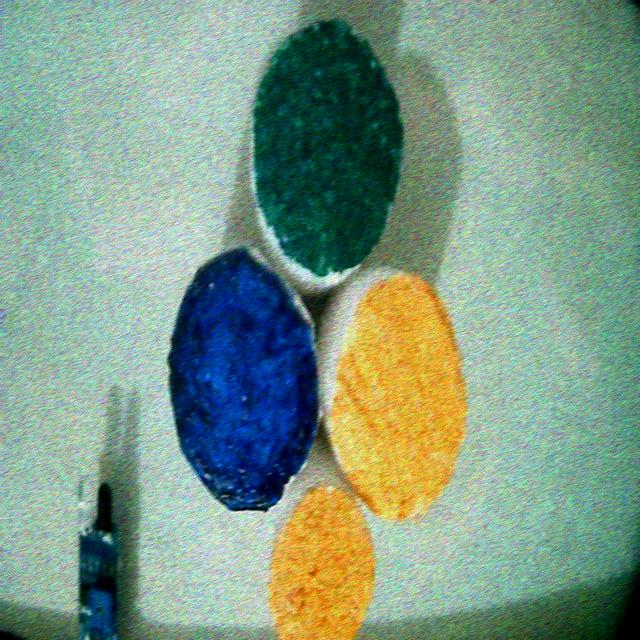blue: (167, 248, 318, 511)
green: (253, 19, 403, 284)
yellow: (328, 273, 465, 519), (267, 487, 374, 639)
